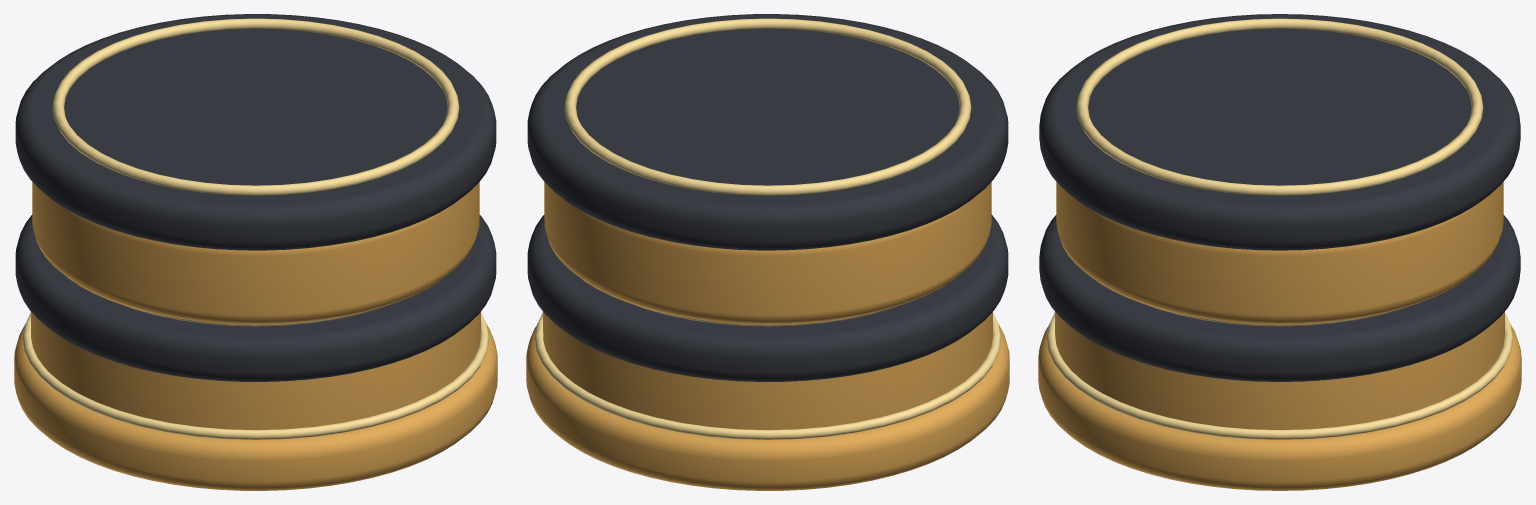
Rendered from CrownToken.fbx.
3 views of the same model, side by side, from view 1: azimuth 30°, elevation 25°; view 2: azimuth 150°, elevation 25°; view 3: azimuth 270°, elevation 25° (orthographic).
Parts seen in each view (by area): view 1: King marble cap, King upper stone, Polished marble face.001, Marble foot.001, Carved stone waist.001, King silver inlay, Lower silver inlay.001, Face silver inlay.001; view 2: King marble cap, King upper stone, Polished marble face.001, Marble foot.001, Carved stone waist.001, King silver inlay, Lower silver inlay.001, Face silver inlay.001; view 3: King marble cap, King upper stone, Polished marble face.001, Marble foot.001, Carved stone waist.001, King silver inlay, Lower silver inlay.001, Face silver inlay.001.
Part boxes in pixels (bbox=[...]): King marble cap: bbox=[15, 14, 496, 250]; King upper stone: bbox=[32, 182, 479, 324]; Polished marble face.001: bbox=[15, 214, 496, 381]; Marble foot.001: bbox=[14, 325, 497, 490]; Carved stone waist.001: bbox=[31, 312, 480, 429]; King silver inlay: bbox=[52, 18, 459, 195]; Lower silver inlay.001: bbox=[22, 312, 489, 439]; Face silver inlay.001: bbox=[127, 306, 384, 326]; King marble cap: bbox=[527, 14, 1008, 250]; King upper stone: bbox=[544, 182, 991, 324]; Polished marble face.001: bbox=[527, 214, 1008, 381]; Marble foot.001: bbox=[526, 325, 1009, 490]; Carved stone waist.001: bbox=[543, 312, 992, 429]; King silver inlay: bbox=[564, 18, 971, 195]; Lower silver inlay.001: bbox=[534, 312, 1001, 439]; Face silver inlay.001: bbox=[639, 306, 896, 326]; King marble cap: bbox=[1039, 14, 1520, 250]; King upper stone: bbox=[1056, 182, 1503, 324]; Polished marble face.001: bbox=[1039, 215, 1520, 381]; Marble foot.001: bbox=[1038, 326, 1521, 490]; Carved stone waist.001: bbox=[1055, 312, 1504, 429]; King silver inlay: bbox=[1076, 18, 1483, 195]; Lower silver inlay.001: bbox=[1046, 312, 1513, 439]; Face silver inlay.001: bbox=[1149, 305, 1410, 326].
Size of the model in its own units: 74.4 by 49.55 by 74.4.
